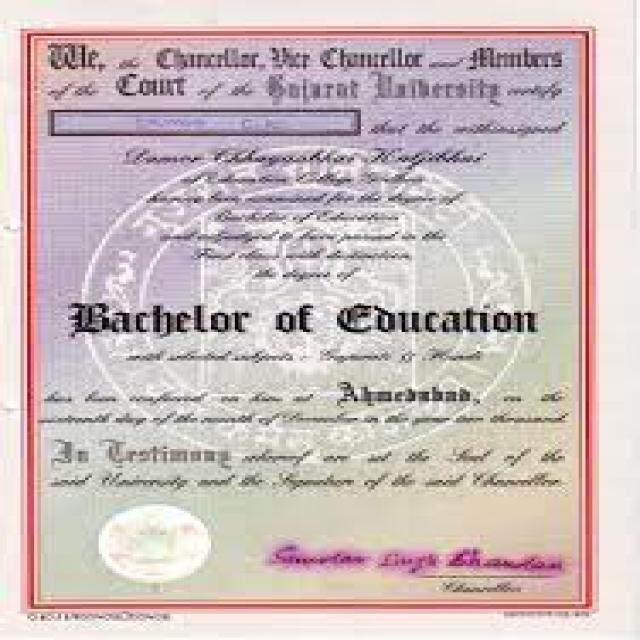degree: (61, 295, 548, 341)
signature: (265, 528, 573, 602)
stamp: (102, 502, 221, 590)
